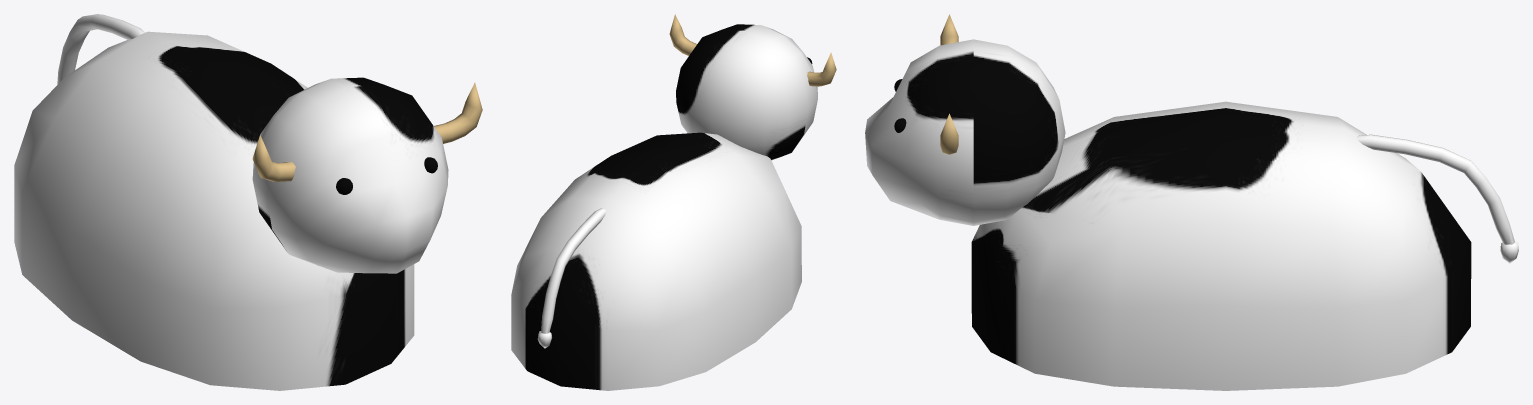
Rendered from cow_prt.fbx.
3 renders of one model, left to right at view 1: azimuth 30°, elevation 25°; view 2: azimuth 150°, elevation 25°; view 3: azimuth 270°, elevation 25°, orthographic. The views are drawn at different scales.
Parts seen in each view (by area): view 1: pCube3, pCube13, pCube7, pCube10; view 2: pCube3, pCube7, pCube13; view 3: pCube3, pCube7, pCube13.
Part boxes in pixels (bbox=[...]): pCube3: bbox=[14, 31, 448, 390]; pCube13: bbox=[252, 82, 482, 181]; pCube7: bbox=[57, 14, 144, 84]; pCube10: bbox=[336, 157, 437, 194]; pCube3: bbox=[511, 24, 817, 390]; pCube7: bbox=[537, 208, 605, 348]; pCube13: bbox=[669, 14, 836, 86]; pCube3: bbox=[865, 39, 1471, 390]; pCube7: bbox=[1357, 134, 1518, 263]; pCube13: bbox=[940, 14, 958, 154].
Size of the model in its own units: 1.15 by 1.16 by 2.46.
